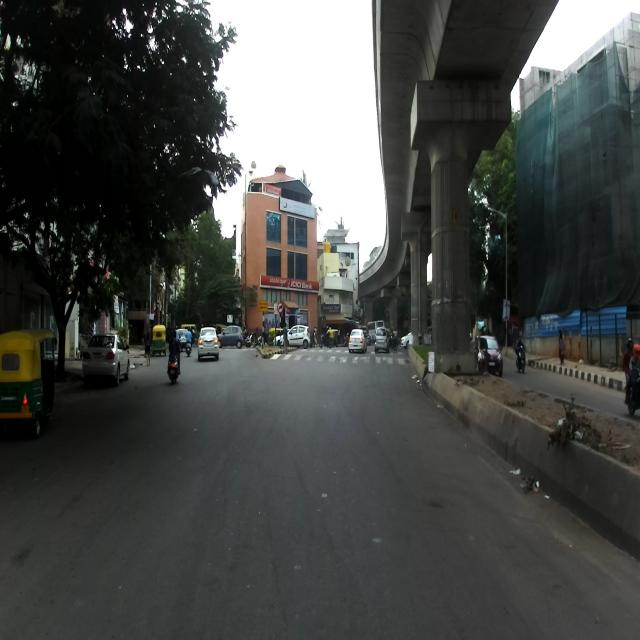Car: (82, 332, 131, 384)
Car_Hyundai: (217, 324, 243, 348)
Car_Maruti-Suzuki: (196, 326, 220, 361), (283, 324, 311, 351), (374, 325, 388, 355)
Car_Toyota: (348, 324, 367, 354)
autorickshaw: (0, 327, 57, 437)
scooter: (166, 346, 182, 384)
